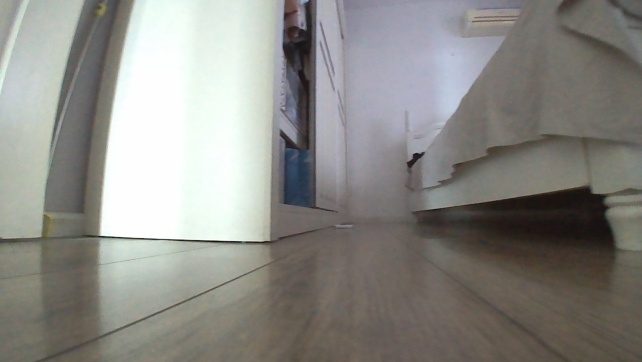bed: (399, 0, 641, 254)
